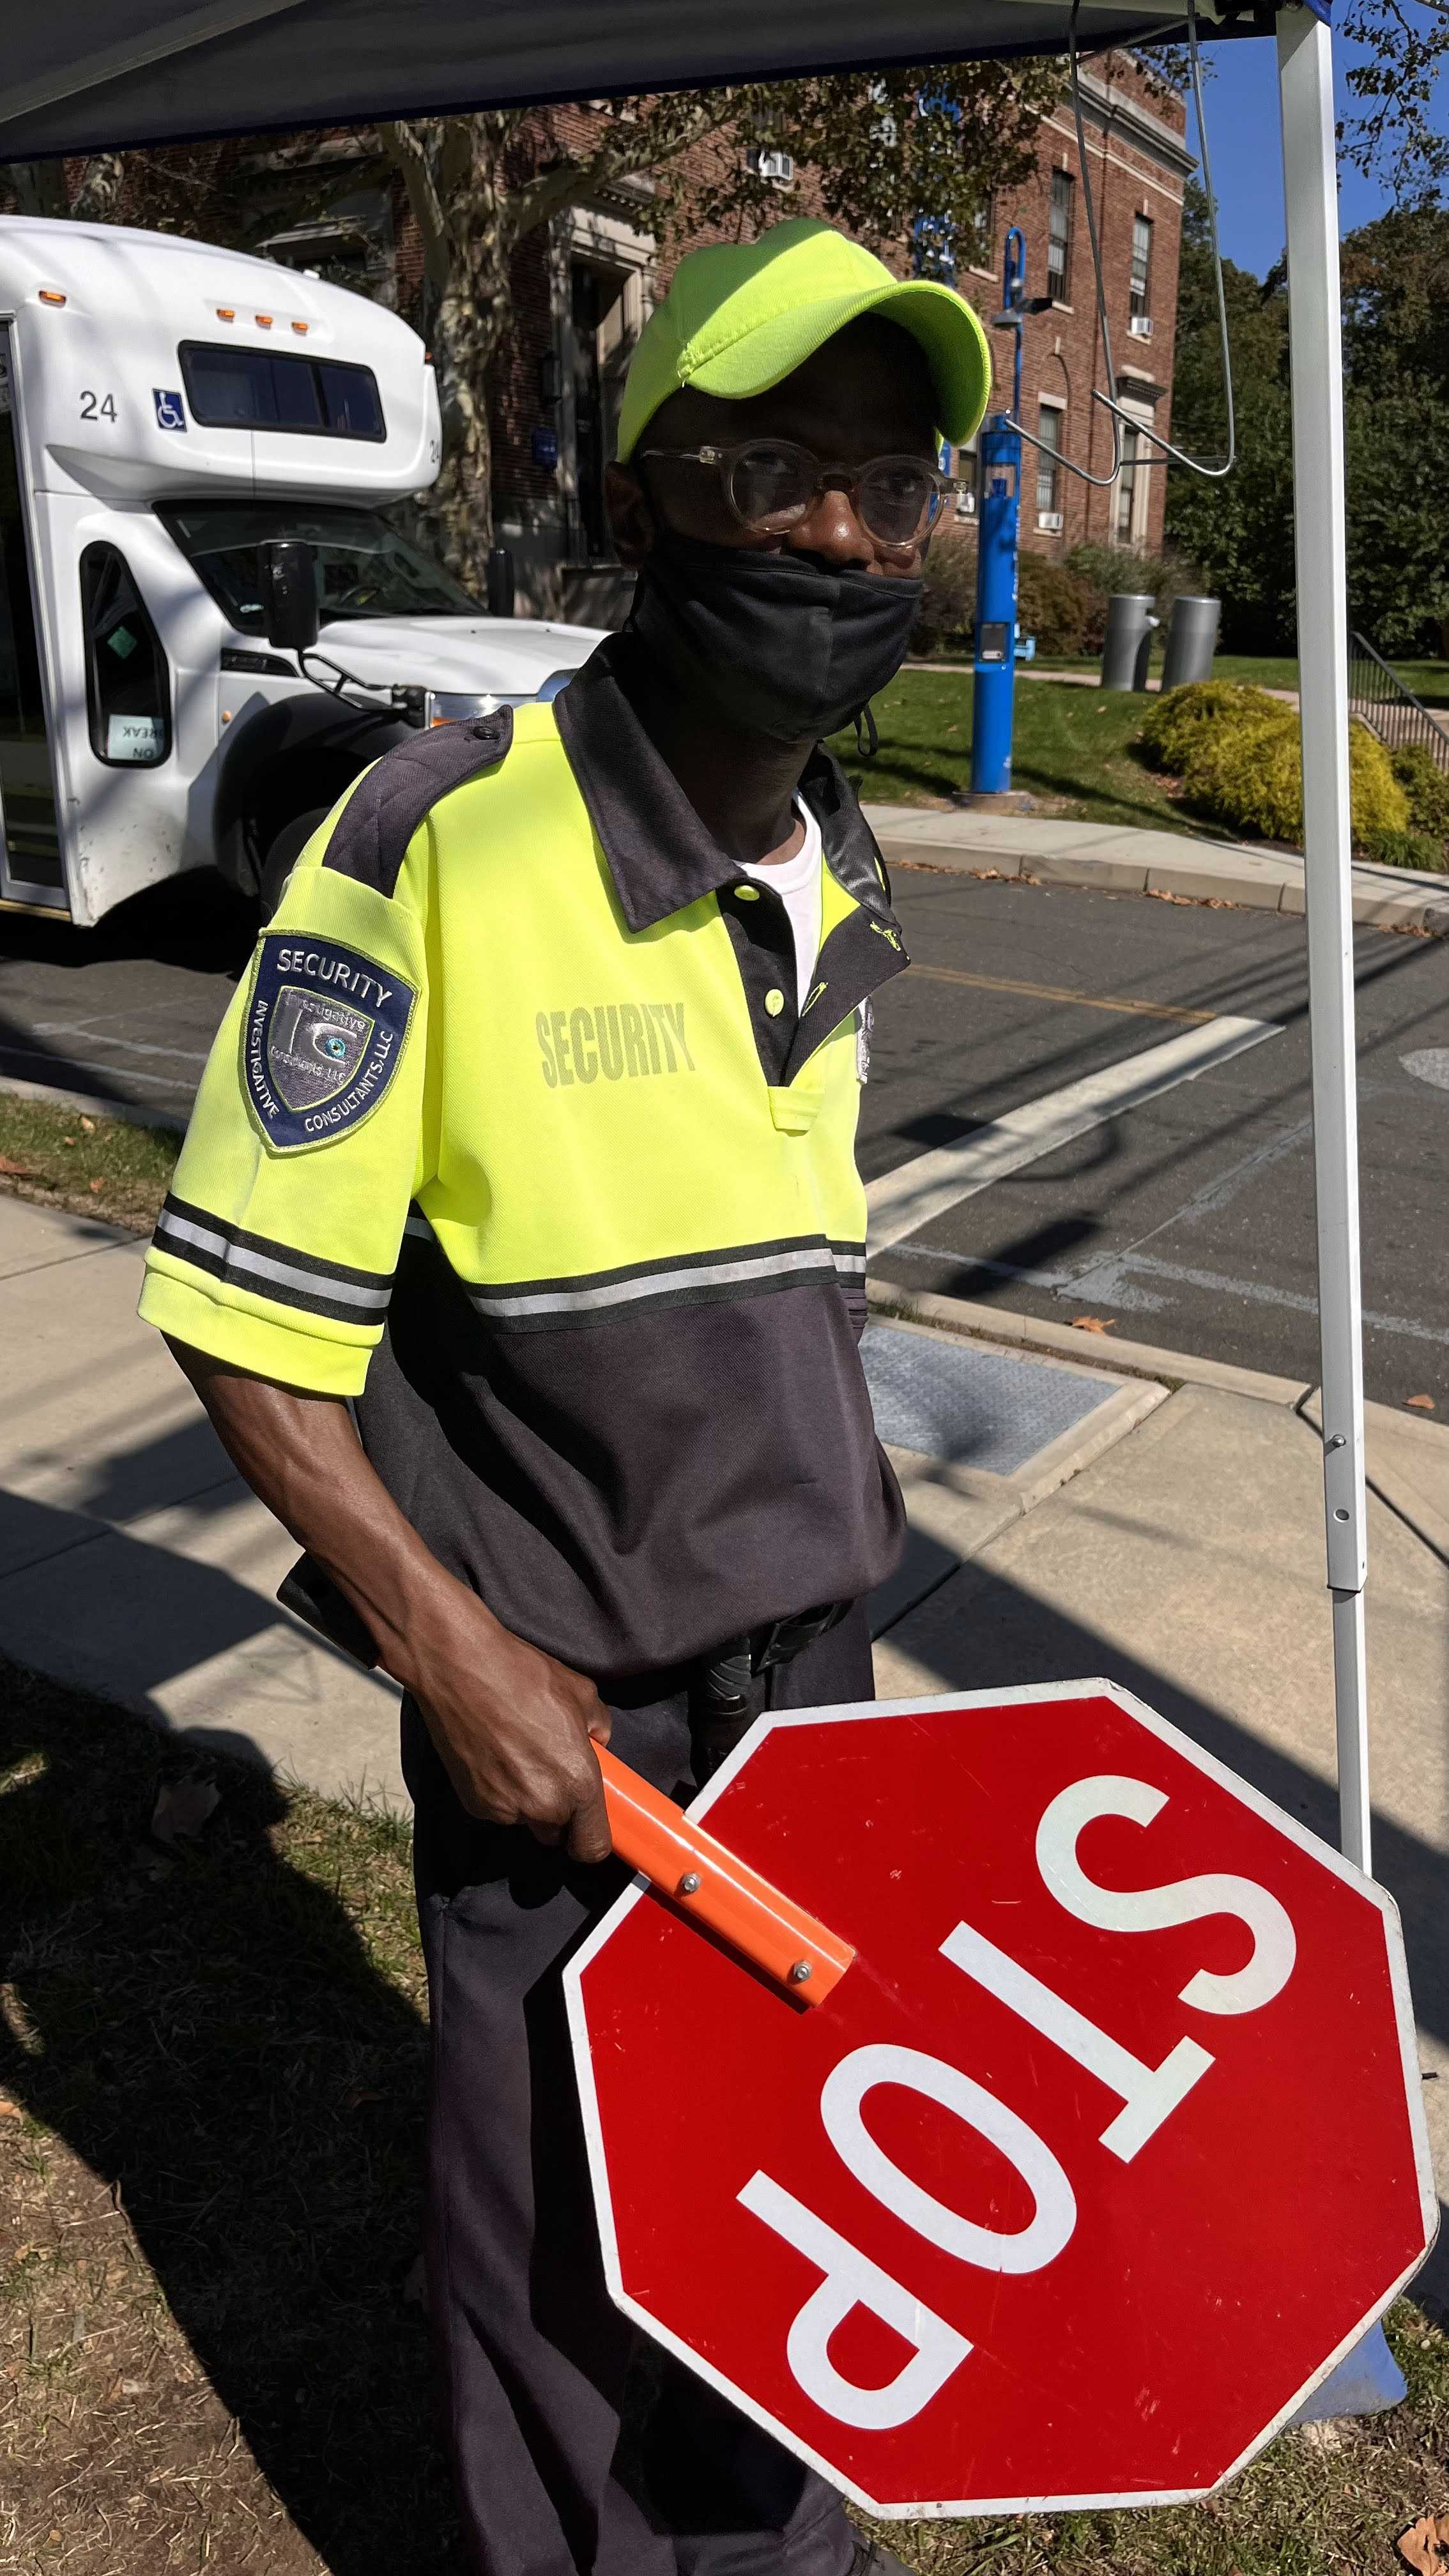Security: (534, 198, 1113, 1180)
